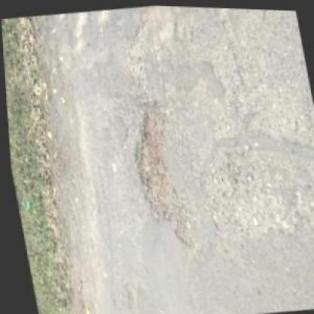Hueco: (119, 96, 197, 254)
